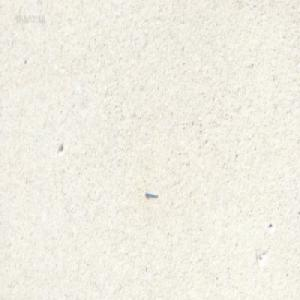Nail: (144, 188, 157, 197)
